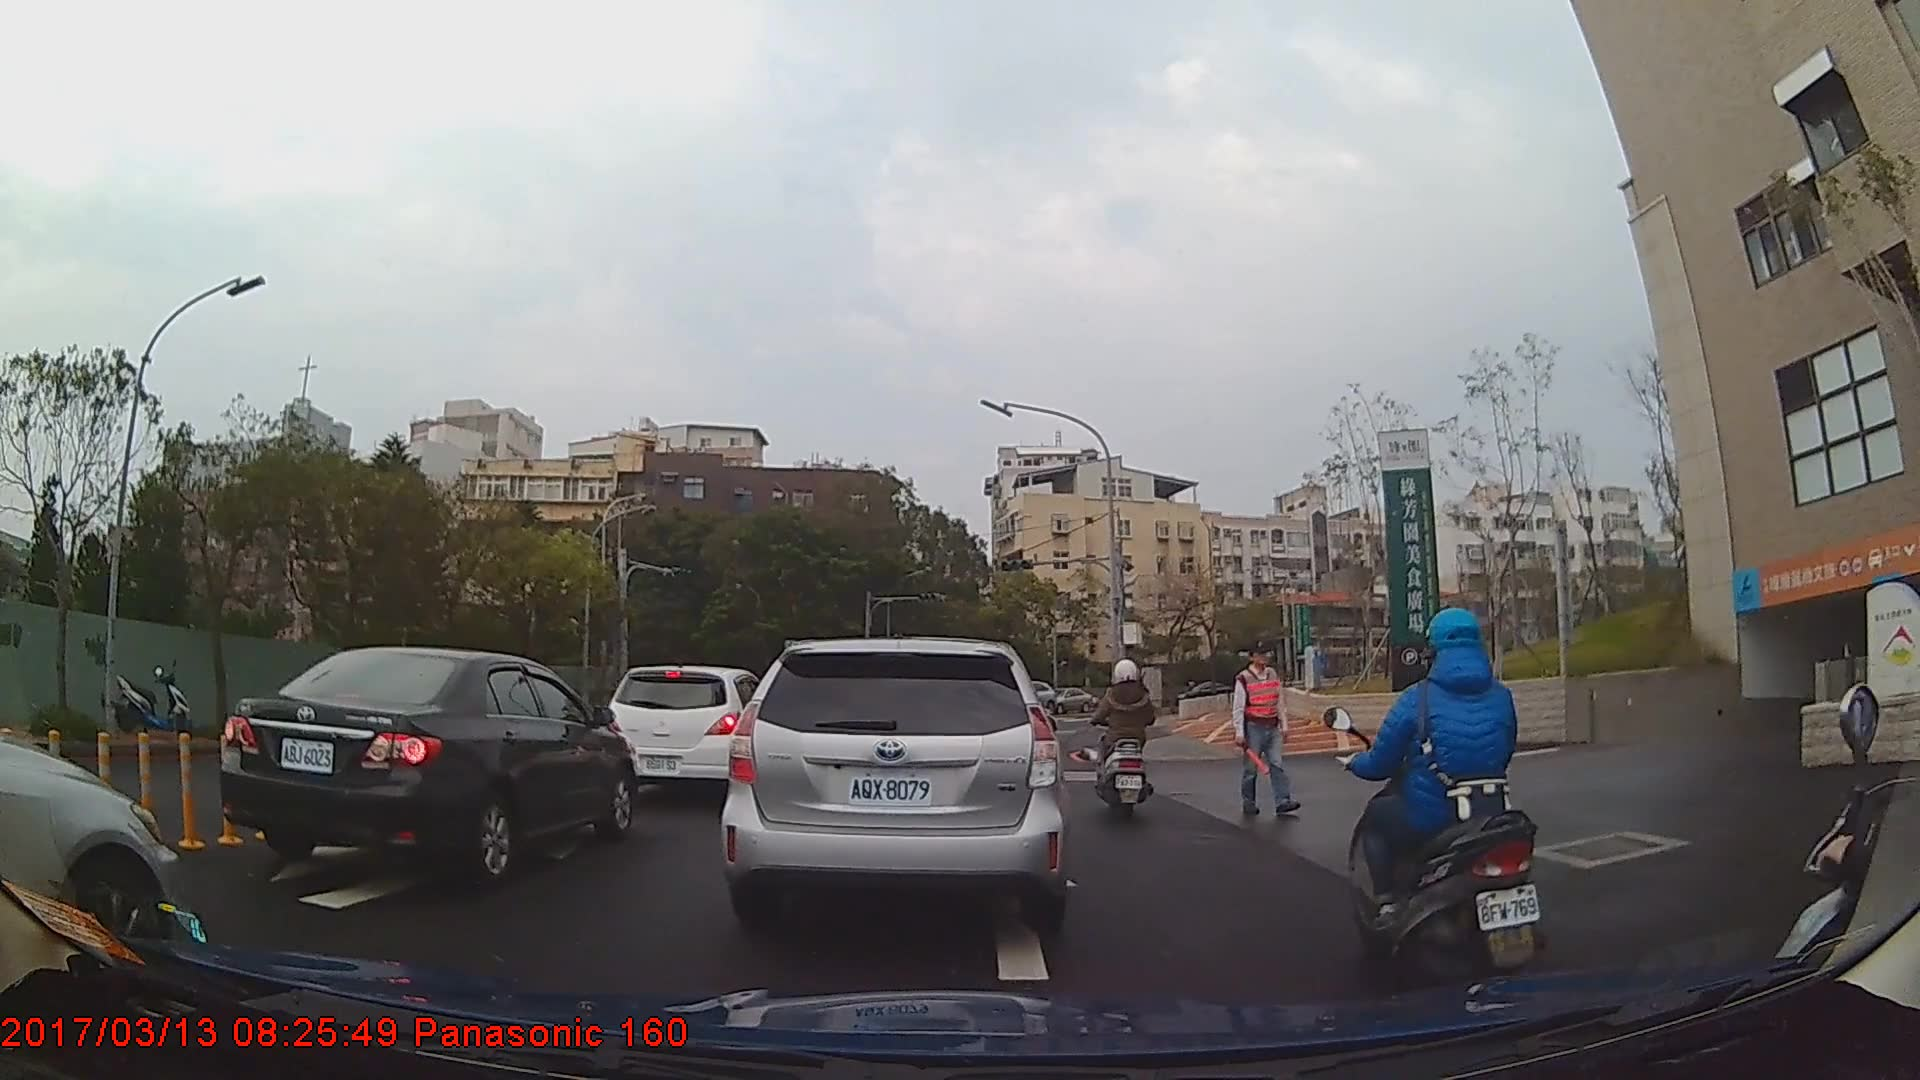pedestrian: (1229, 640, 1292, 816)
rider: (1341, 604, 1551, 990), (1096, 662, 1163, 825)
vehicle: (721, 635, 1070, 933), (219, 645, 639, 886), (600, 664, 774, 804), (1055, 687, 1095, 716)
